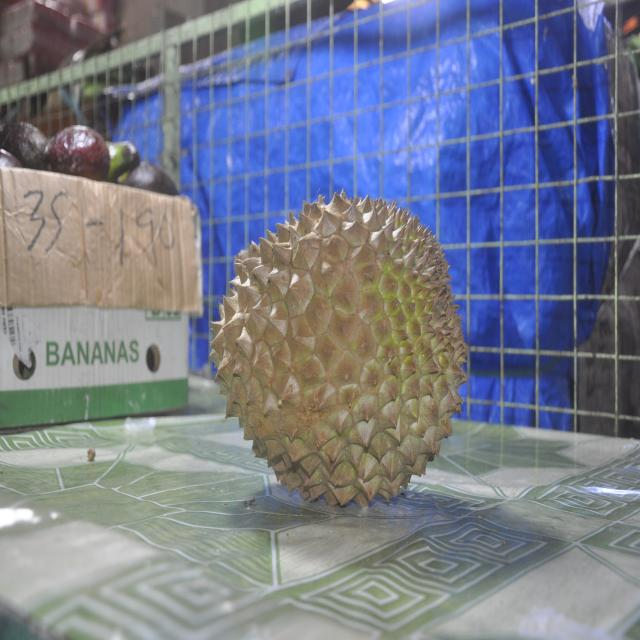mature: (210, 190, 466, 507)
